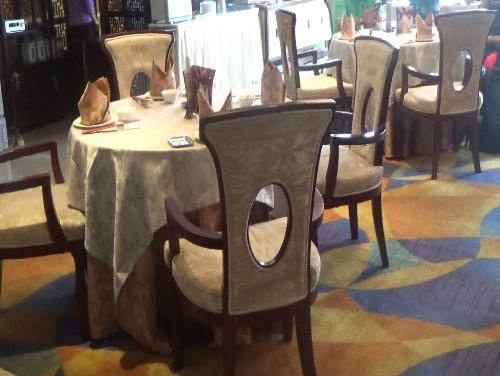chair: (158, 96, 342, 372), (309, 33, 402, 270), (392, 5, 498, 182), (274, 7, 361, 169)
table: (60, 85, 327, 354)
